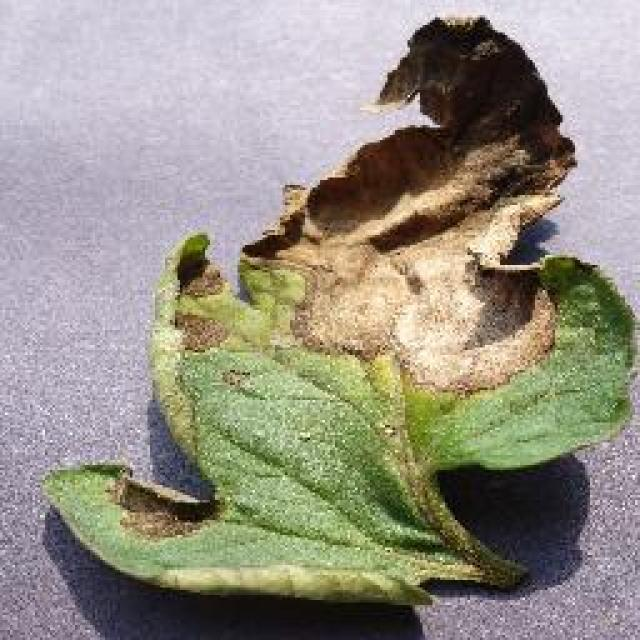Tomato Late Blight: (145, 1, 552, 392)
